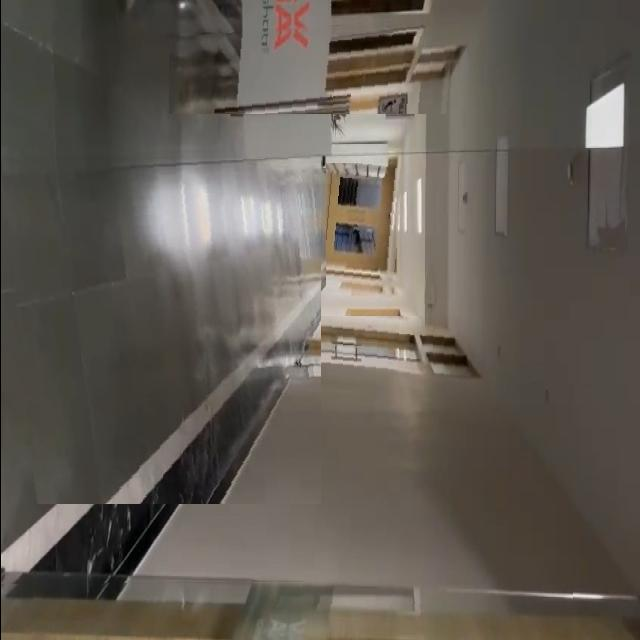door: (0, 579, 640, 640), (168, 16, 454, 114), (254, 316, 472, 402), (325, 163, 403, 298)
floor: (0, 145, 320, 504)
